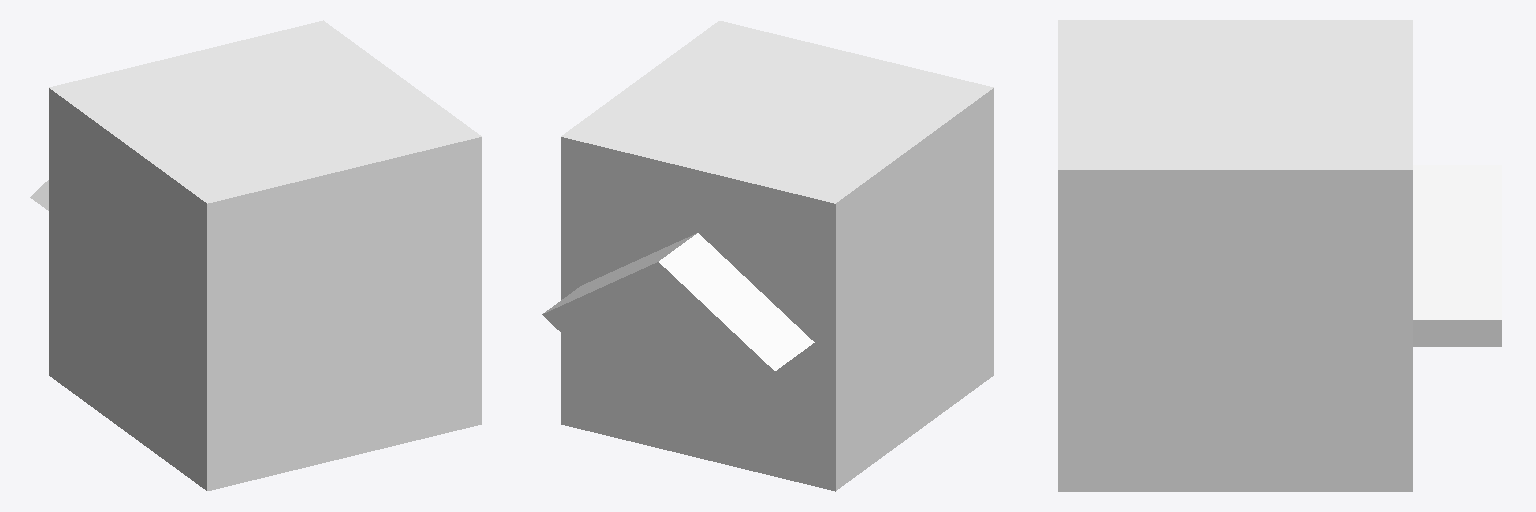
The robot description file, URDF, robot "Diamond_cube_cap":
<?xml version="1.0" ?>
<robot name="Diamond_cube_cap">
  <link name="baseLink">
    <contact>
    	<friction_anchor/>
    	   <lateral_friction value="1.0"/>
    </contact>
    <inertial>
      <origin rpy="0 0 0" xyz="0 0 0"/>
       <!-- mass controls penetration -->
       <mass value=".5"/>
       <inertia ixx="1e-4" ixy="0" ixz="0" iyy="1e-4" iyz="0" izz="1e-4"/>
    </inertial>
    <visual>
      <origin rpy="0 0 0" xyz="0 0 0"/>
      <geometry>
        <mesh filename="Diamond_cube_cap.obj"/>
      </geometry>
       <material name="white">
        <color rgba="1 1 1 1"/>
      </material>
    </visual>
    <collision>
      <origin rpy="0 0 0" xyz="0 0 0"/>
      <geometry>
        <mesh filename="Diamond_cube_cap.obj"/>
      </geometry>
    </collision>
  </link>
</robot>

--- Render facts (derived) ---
Views: 3 orthographic renders of the robot side by side, from view 1: azimuth 30°, elevation 25°; view 2: azimuth 150°, elevation 25°; view 3: azimuth 270°, elevation 25°.
Robot: Diamond_cube_cap — 1 links, 0 joints (none); root link baseLink; default pose: all joints at 0.
Links seen in each view (by area): view 1: baseLink; view 2: baseLink; view 3: baseLink.
Boxes of the visible links, box(x1,y1,x2,y2) form: baseLink: box(30, 20, 481, 490); baseLink: box(542, 21, 993, 491); baseLink: box(1058, 20, 1501, 491).
Size in the robot's own frame: 0.08 by 0.1 by 0.08 metres.
1 mesh visuals loaded from 1 distinct referenced files (1 OBJ).